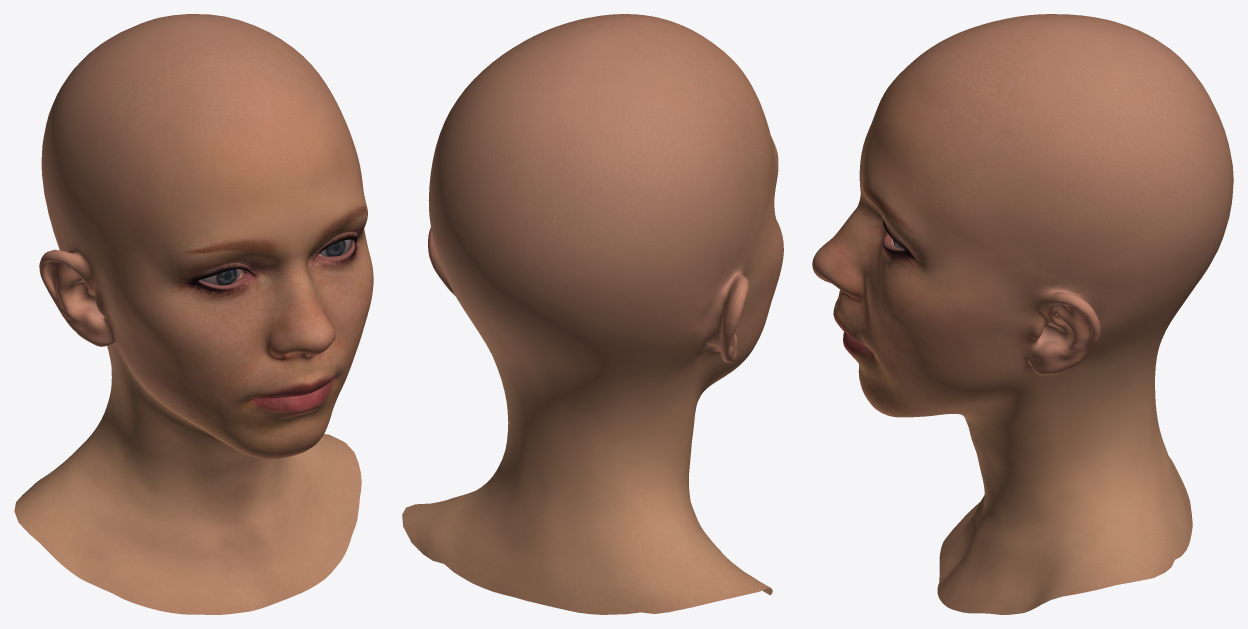
3 views of the same model, side by side, from view 1: azimuth 30°, elevation 25°; view 2: azimuth 150°, elevation 25°; view 3: azimuth 270°, elevation 25° (orthographic). The views are drawn at different scales.
Parts seen in each view (by area): view 1: Registered head; view 2: Registered head; view 3: Registered head.
Part boxes in pixels (bbox=[...]): Registered head: bbox=[14, 14, 373, 614]; Registered head: bbox=[402, 14, 783, 614]; Registered head: bbox=[812, 14, 1233, 614].
Size of the model in its own units: 1.2 by 1.87 by 1.29.
Materials: 3 (3 with a texture image).
